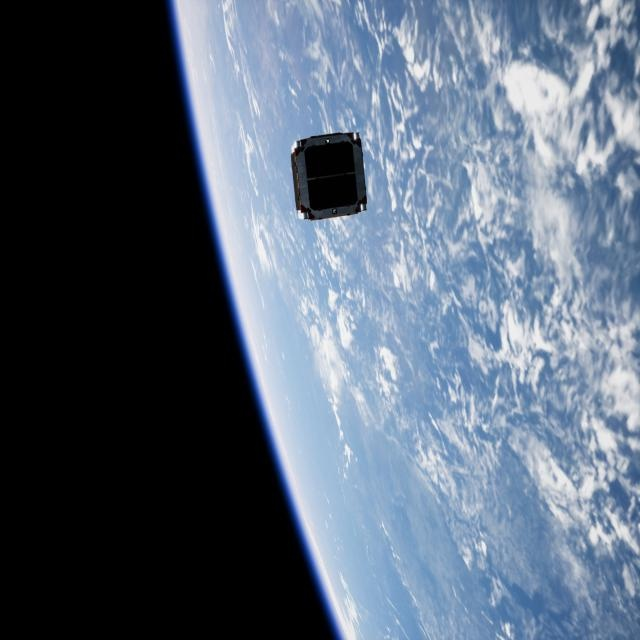medium_debris: (290, 123, 363, 219)
